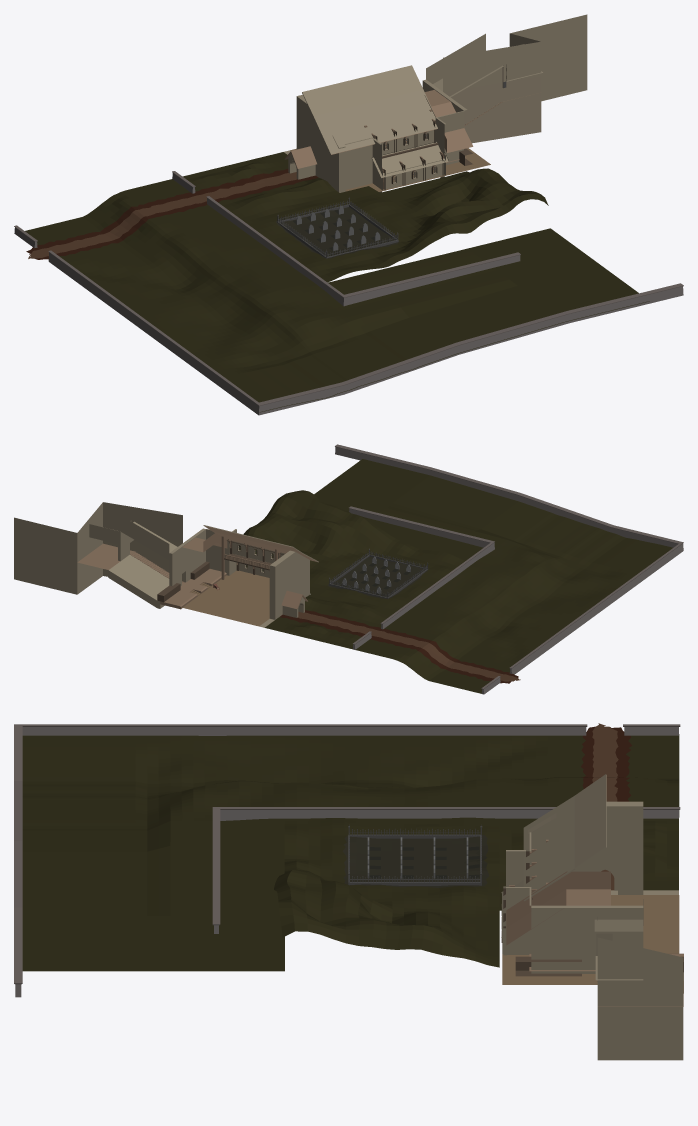
The model's file is church_LESS_STEEP.fbx.
3 renders of one model, top to bottom at view 1: azimuth 30°, elevation 25°; view 2: azimuth 150°, elevation 25°; view 3: azimuth 270°, elevation 25°, orthographic. The views are drawn at different scales.
Visible parts, largest first — view 1: church; view 2: church; view 3: church.
Part boxes in pixels (box(x1,y1,x2,y2)): church: box(14, 14, 683, 415); church: box(14, 444, 683, 694); church: box(14, 723, 683, 1060).
Bounding box in the file's own units: 11756 × 2018 × 8506.
